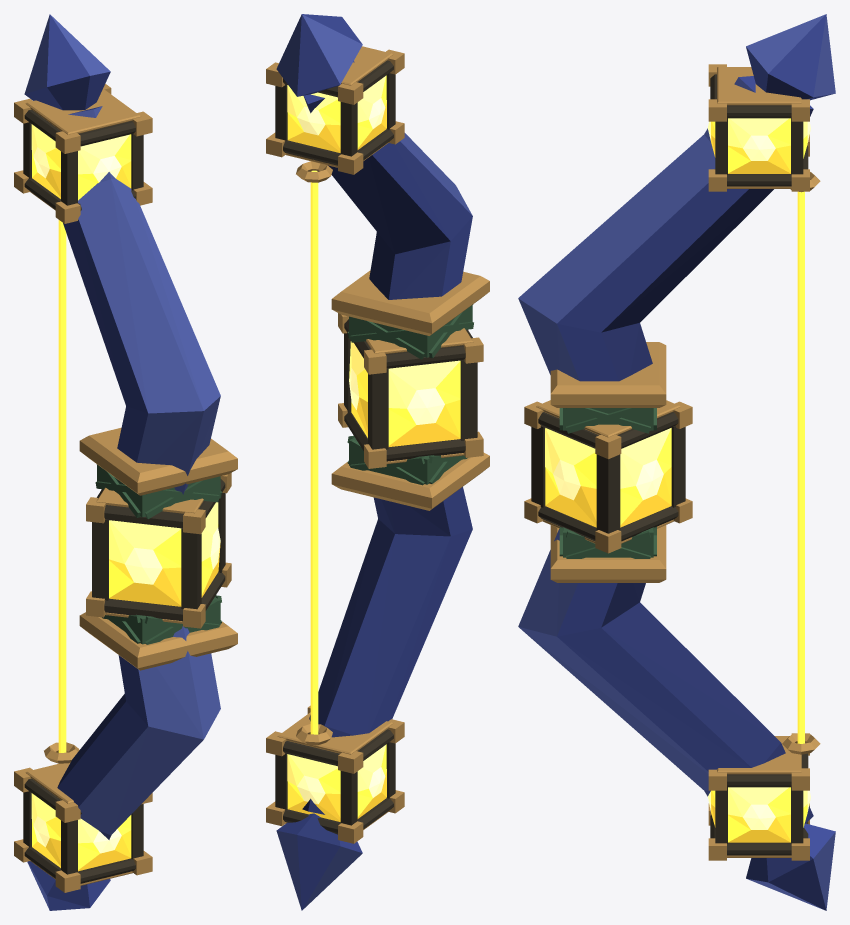
File: firefly_bow.glb
The picture shows the model from 3 angles, left to right: view 1: azimuth 30°, elevation 25°; view 2: azimuth 150°, elevation 25°; view 3: azimuth 270°, elevation 25°; orthographic projection.
Visible parts, largest first — view 1: UpperLimb, LowerLimb, GripLanternPanes, GripLantern, TopTipCrystal, StringCord, TopLanternCaps, GripBandTop, TopLanternPanes, GripBandBottom, TopLantern, BottomLantern (+7 smaller); view 2: LowerLimb, UpperLimb, GripLanternPanes, GripLantern, GripBandTop, StringCord, TopTipCrystal, BottomLanternPanes, BottomTipCrystal, BottomLantern, TopLanternPanes, TopLantern (+8 smaller); view 3: UpperLimb, LowerLimb, GripLanternPanes, GripLantern, TopTipCrystal, StringCord, GripBandTop, BottomLanternPanes, TopLanternPanes, BottomTipCrystal, TopLanternCaps, GripLanternCaps (+6 smaller).
Part boxes in pixels (box(x1,y1,x2,y2)): UpperLimb: box(63, 106, 220, 494); LowerLimb: box(57, 626, 220, 839); GripLanternPanes: box(109, 502, 220, 606); GripLantern: box(92, 479, 225, 621); TopTipCrystal: box(24, 14, 110, 110); StringCord: box(58, 220, 66, 752); TopLanternCaps: box(14, 84, 152, 223); GripBandTop: box(79, 427, 237, 495); TopLanternPanes: box(31, 124, 131, 200); GripBandBottom: box(79, 612, 237, 670); TopLantern: box(23, 109, 143, 210); BottomLantern: box(23, 778, 143, 883); LowerLimb: box(302, 487, 472, 814); UpperLimb: box(303, 61, 472, 299); GripLanternPanes: box(349, 341, 460, 446); GripLantern: box(344, 319, 477, 461); GripBandTop: box(331, 270, 489, 335); StringCord: box(310, 170, 318, 734); TopTipCrystal: box(276, 14, 362, 96); BottomLanternPanes: box(287, 744, 386, 821); BottomTipCrystal: box(276, 813, 362, 910); BottomLantern: box(275, 729, 395, 834); TopLanternPanes: box(287, 75, 386, 152); TopLantern: box(275, 60, 395, 165); UpperLimb: box(518, 76, 813, 381); LowerLimb: box(518, 529, 813, 824); GripLanternPanes: box(545, 428, 671, 527); GripLantern: box(531, 412, 685, 541); TopTipCrystal: box(746, 14, 835, 100); StringCord: box(797, 191, 804, 743); GripBandTop: box(550, 342, 666, 407); BottomLanternPanes: box(708, 787, 810, 842); TopLanternPanes: box(708, 118, 810, 173); BottomTipCrystal: box(746, 823, 835, 910); TopLanternCaps: box(708, 64, 809, 191); GripLanternCaps: box(524, 400, 692, 553).
Size of the model in its own units: 0.2008 by 1.18 by 0.3788.
